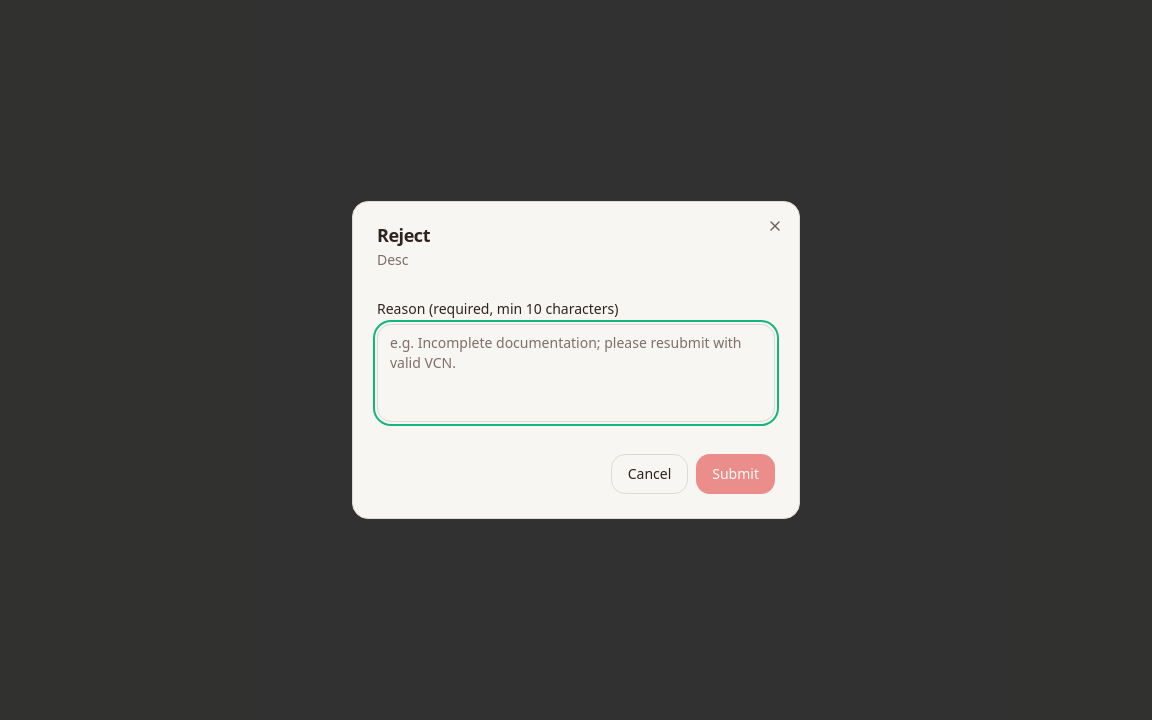
Test: ReasonModal › enables submit when reason has at least 10 characters
Type "Exactly ten!!" into the text box at (576, 373), box x1=377 y1=324 x2=775 y2=422
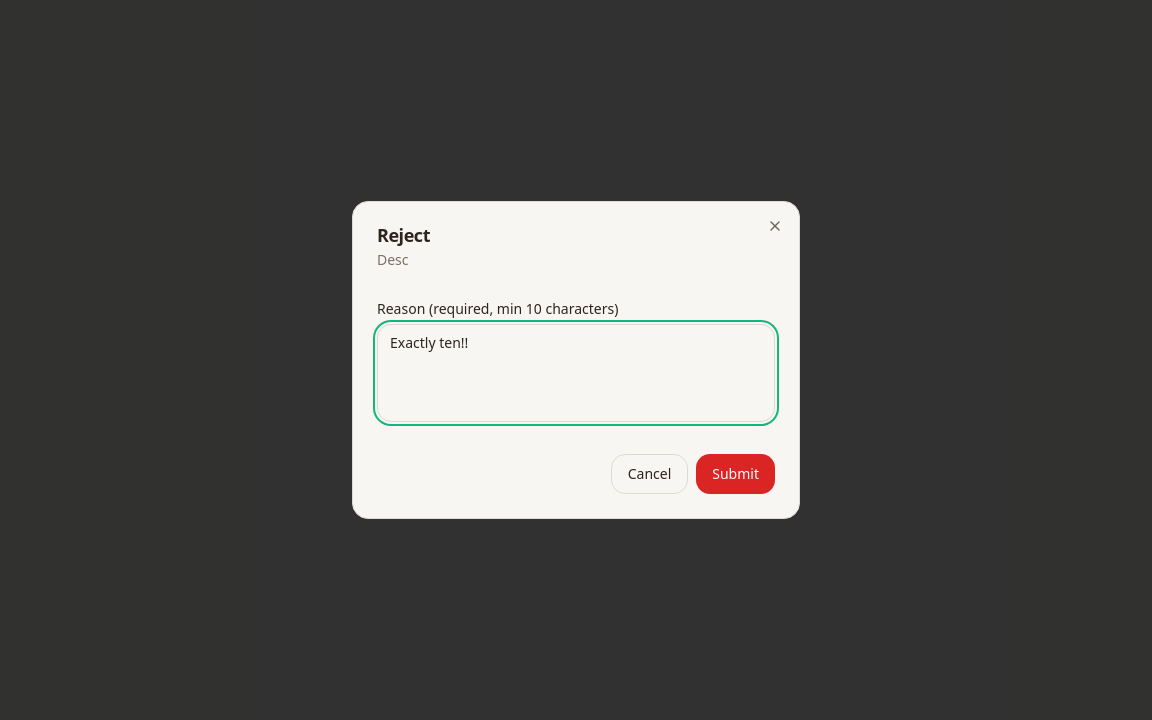
Expected: the button "Submit" is enabled, x1=696 y1=454 x2=775 y2=494
